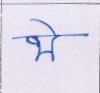e_matra: (31, 19, 60, 34)
